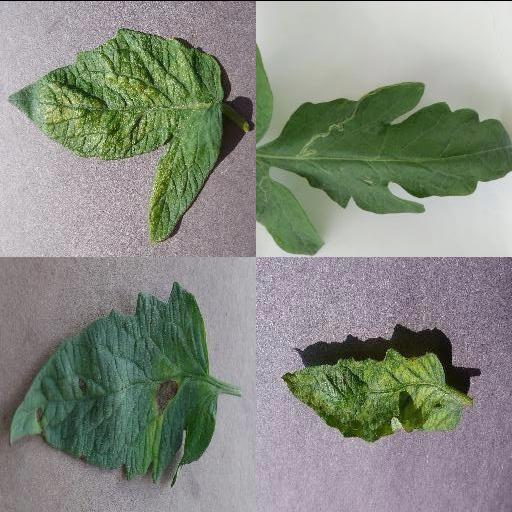Early Blight: (7, 280, 217, 483)
Leaf Miner: (273, 78, 512, 214)
Mosaic Virus: (280, 346, 460, 443)
Spider Mites: (7, 27, 223, 239)
